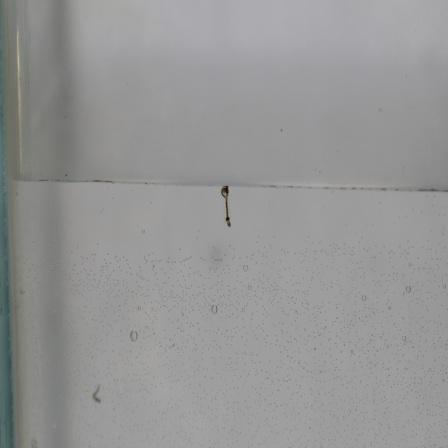Jentik-Nyamuk: (217, 183, 235, 232), (88, 383, 105, 406)
